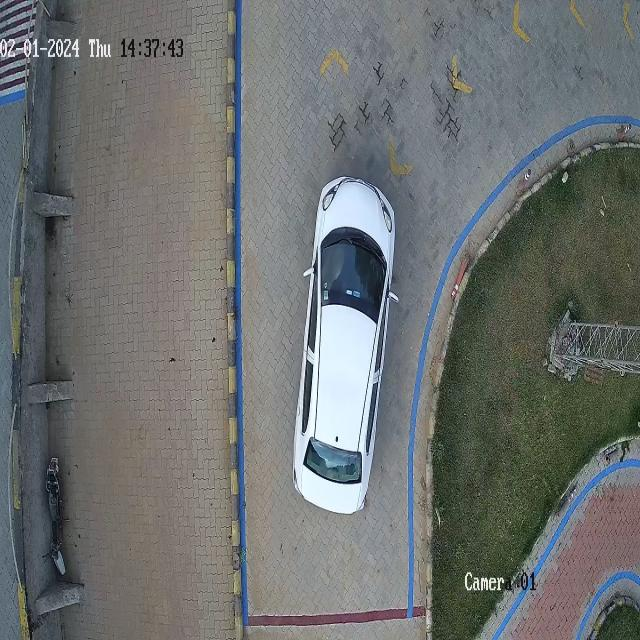car: (292, 178, 395, 512)
